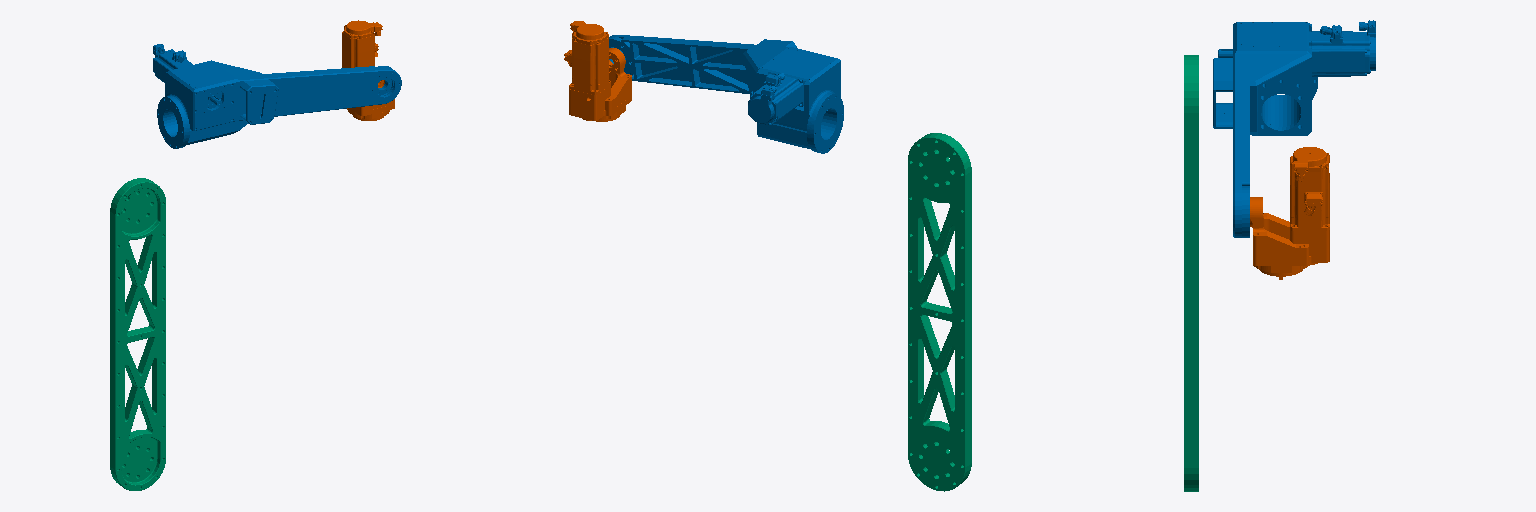
robot.urdf — gradient-05:
<?xml version="1.0"?>
<robot name="gradient-05">
  <!-- Template URDF for Gradient-05.
       Replace placeholder geometry/origins/limits with production CAD values. -->

  <link name="base_link">
    <visual>
      <origin xyz="0 0 0" rpy="0 0 0"/>
      <geometry>
        <mesh filename="stl-files/base.stl"/>
      </geometry>
    </visual>
  </link>

  <link name="link_1">
    <visual>
      <origin xyz="0 0 0" rpy="0 0 0"/>
      <geometry>
        <mesh filename="stl-files/L1.stl"/>
      </geometry>
    </visual>
  </link>

  <link name="link_2">
    <visual>
      <origin xyz="0 0 0" rpy="0 0 0"/>
      <geometry>
        <mesh filename="stl-files/L2.stl"/>
      </geometry>
    </visual>
  </link>

  <link name="link_3">
    <visual>
      <origin xyz="0 0 0" rpy="0 0 0"/>
      <geometry>
        <mesh filename="stl-files/L3.stl"/>
      </geometry>
    </visual>
  </link>

  <link name="link_4">
    <visual>
      <origin xyz="0 0 0" rpy="0 0 0"/>
      <geometry>
        <mesh filename="stl-files/L4.stl"/>
      </geometry>
    </visual>
  </link>

  <link name="link_5">
    <visual>
      <origin xyz="0 0 0" rpy="0 0 0"/>
      <geometry>
        <mesh filename="stl-files/L5.stl"/>
      </geometry>
    </visual>
  </link>

  <link name="tool0">
    <!-- <visual>
      <origin xyz="0 0 0" rpy="0 0 0"/>
      <geometry>
        <mesh filename="stl-files/tool_mesh.stl"/>
      </geometry>
    </visual> -->
  </link>

  <joint name="joint1" type="revolute">
    <parent link="base_link"/>
    <child link="link_1"/>
    <origin xyz="0 0 0.0328" rpy="0 0 0"/>
    <axis xyz="0 0 1"/>
    <limit lower="-6.3" upper="6.3" effort="100" velocity="2.0"/>
  </joint>

  <joint name="joint2" type="revolute">
    <parent link="link_1"/>
    <child link="link_2"/>
    <origin xyz="0.160 -0.1255 0.2652" rpy="0 0 0"/>
    <axis xyz="0 1 0"/>
    <limit lower="-1.9" upper="1.9" effort="100" velocity="2.0"/>
  </joint>

  <joint name="joint3" type="revolute">
    <parent link="link_2"/>
    <child link="link_3"/>
    <origin xyz="0 0 0.600" rpy="0 0 0"/>
    <axis xyz="0 1 0"/>
    <limit lower="-4.2" upper="1.53" effort="100" velocity="2.0"/>
  </joint>

  <joint name="joint4" type="revolute">
    <parent link="link_3"/>
    <child link="link_4"/>
    <origin xyz="0.159 0.1255 0.105" rpy="0 0 0"/>
    <axis xyz="1 0 0"/>
    <limit lower="-6.3" upper="6.3" effort="100" velocity="2.0"/>
  </joint>

  <joint name="joint5" type="revolute">
    <parent link="link_4"/>
    <child link="link_5"/>
    <origin xyz="0.4877 -0.0478830 0" rpy="0 1.5707963267948966 0"/>
    <axis xyz="0 1 0"/>
    <limit lower="-6.3" upper="6.3" effort="100" velocity="2.0"/>
  </joint>

  <joint name="joint6" type="revolute">
    <parent link="link_5"/>
    <child link="tool0"/>
    <origin xyz="0.0933 0.0478830 0" rpy="0 0 0"/>
    <axis xyz="1 0 0"/>
    <limit lower="-10.0" upper="10.0" effort="100" velocity="2.0"/>
  </joint>
</robot>

--- Render facts (derived) ---
3 views of the same robot in one strip: view 1: azimuth 30°, elevation 25°; view 2: azimuth 150°, elevation 25°; view 3: azimuth 270°, elevation 25° (orthographic).
Robot: gradient-05 — 7 links, 6 joints (6 revolute); root link base_link; default pose: all joints at 0.
Visible links, largest first — view 1: link_2, link_4, link_5; view 2: link_2, link_4, link_5; view 3: link_4, link_5, link_2.
Boxes of the visible links, x1=… form: link_2: x1=110, y1=178, x2=165, y2=490; link_4: x1=153, y1=44, x2=401, y2=148; link_5: x1=342, y1=20, x2=394, y2=120; link_2: x1=908, y1=133, x2=971, y2=491; link_4: x1=609, y1=35, x2=843, y2=153; link_5: x1=564, y1=21, x2=631, y2=121; link_4: x1=1213, y1=20, x2=1375, y2=237; link_5: x1=1250, y1=147, x2=1329, y2=279; link_2: x1=1184, y1=55, x2=1198, y2=491.
Size in the robot's own frame: 0.759 by 0.2952 by 0.8827 metres.
3 mesh visuals loaded from 6 distinct referenced files (3 binary STL); not drawn: 3 (reference not matched to a file when rendering).
